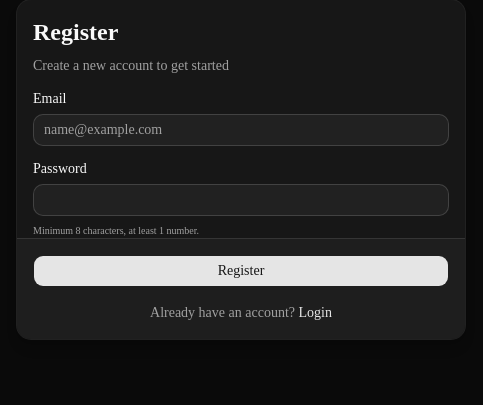
Test: RegisterForm › shows validation error if password lacks a number
Type "passwordlongenough" into the password field labelled "Password" at [241, 200], box [33, 184, 449, 216]
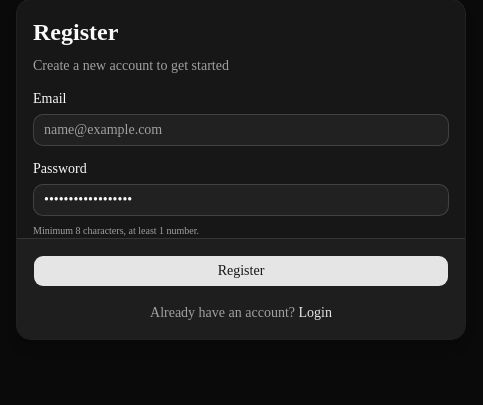
Click the button "Register" at [241, 271], box [33, 255, 449, 287]
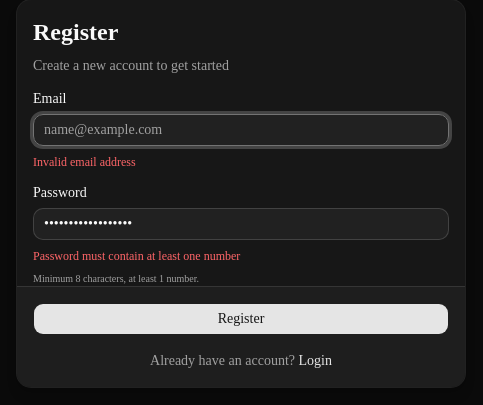
Expected: the text "Password must contain at least one number" is shown, [33, 249, 240, 263]
